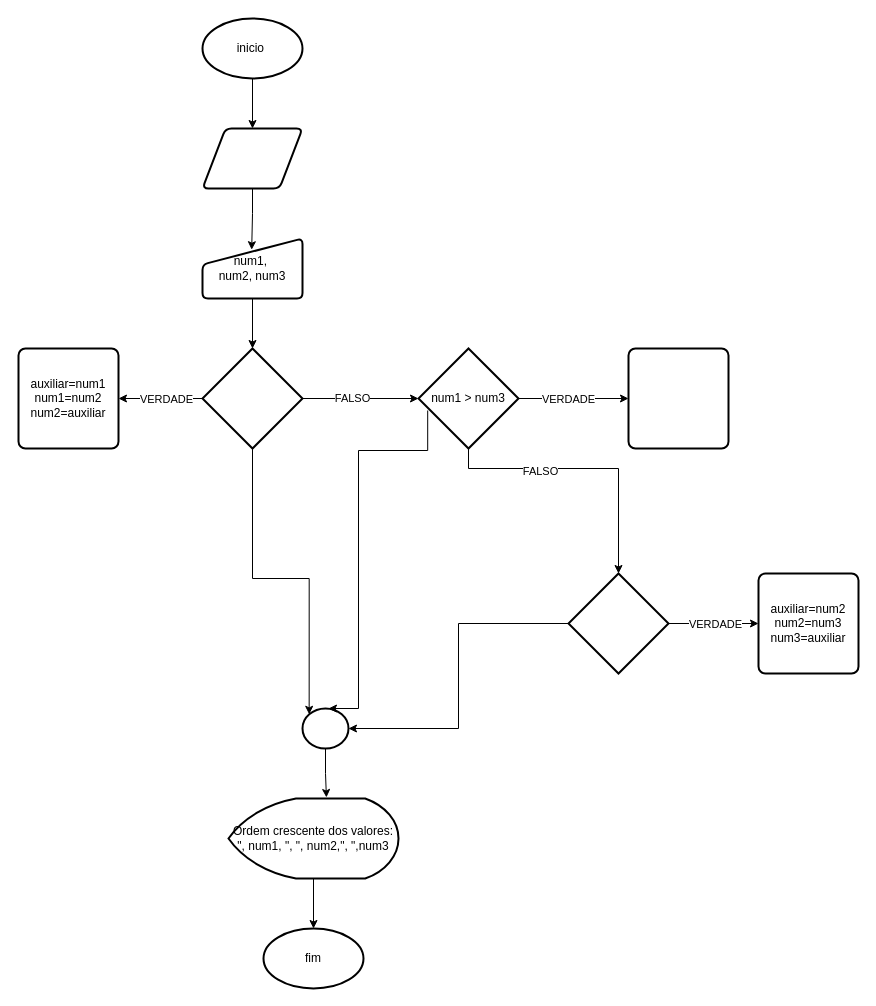
This 876x1006 diagram has some shape labels left out. Here are the shapes that lost their labels. From the top down, the centre of each, then its label:
At point (252, 158): "num1, num2, num3, auxiliar".
At point (252, 398): "num1 > num2".
At point (678, 398): "auxiliar=num1 num2=num3 num3=auxiliar".
At point (618, 623): "num2 > num3".
